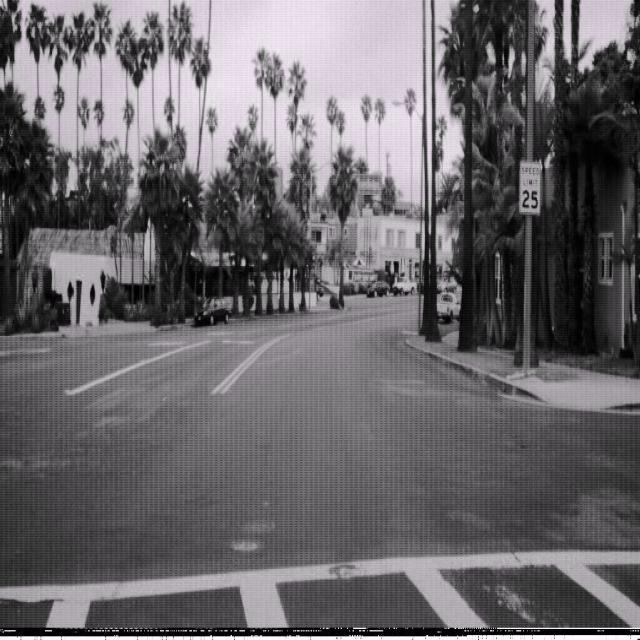speedLimit25: (518, 158, 541, 216)
